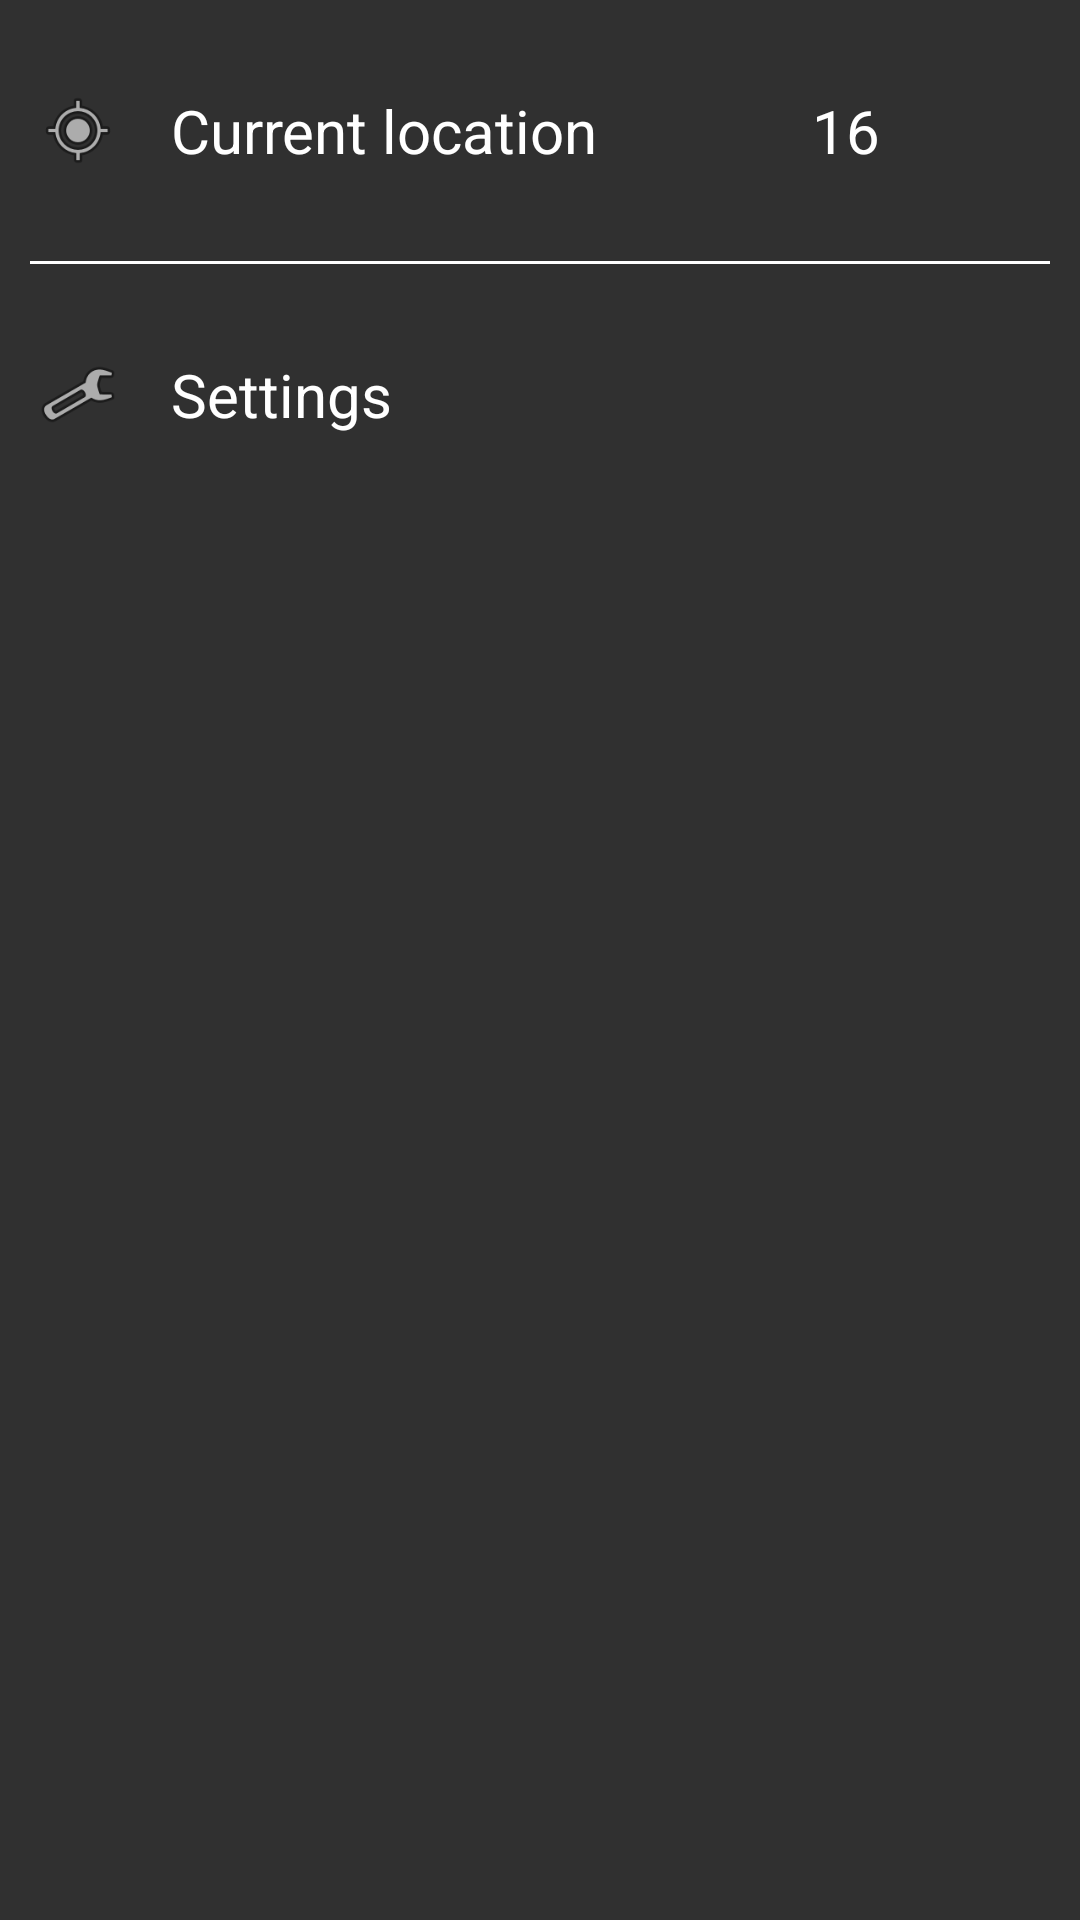

Where to tap for icons on this 1080×1920 app screen, as (x=x, y=y):
manage: (x=78, y=394)
mylocation: (x=78, y=130)
